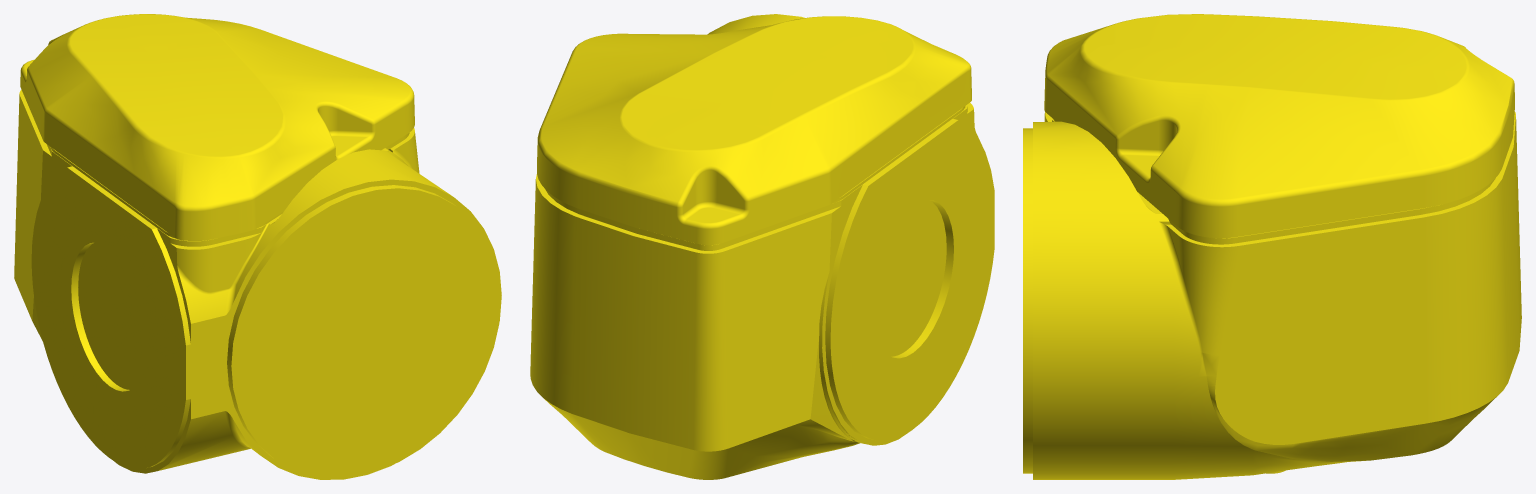
3 views of the same model, side by side, from view 1: azimuth 30°, elevation 25°; view 2: azimuth 150°, elevation 25°; view 3: azimuth 270°, elevation 25° (orthographic). The views are drawn at different scales.
Visible parts, largest first — view 1: TX40 ELBOW; view 2: TX40 ELBOW; view 3: TX40 ELBOW.
Part boxes in pixels (box(x1,y1,x2,y2)): TX40 ELBOW: box(14, 14, 501, 479); TX40 ELBOW: box(530, 14, 994, 479); TX40 ELBOW: box(1023, 14, 1521, 479).
Bounding box in the file's own units: 124 × 126 × 153.
